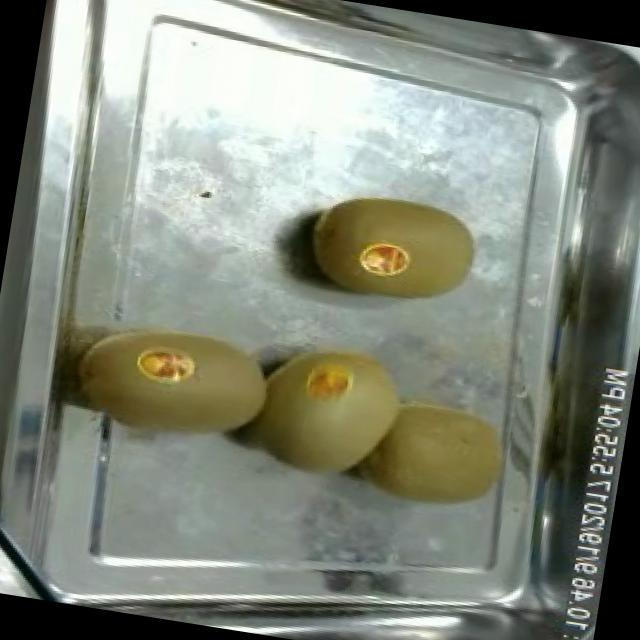Fruit: (55, 298, 288, 468), (238, 323, 421, 496), (292, 172, 490, 322), (353, 379, 513, 526)
